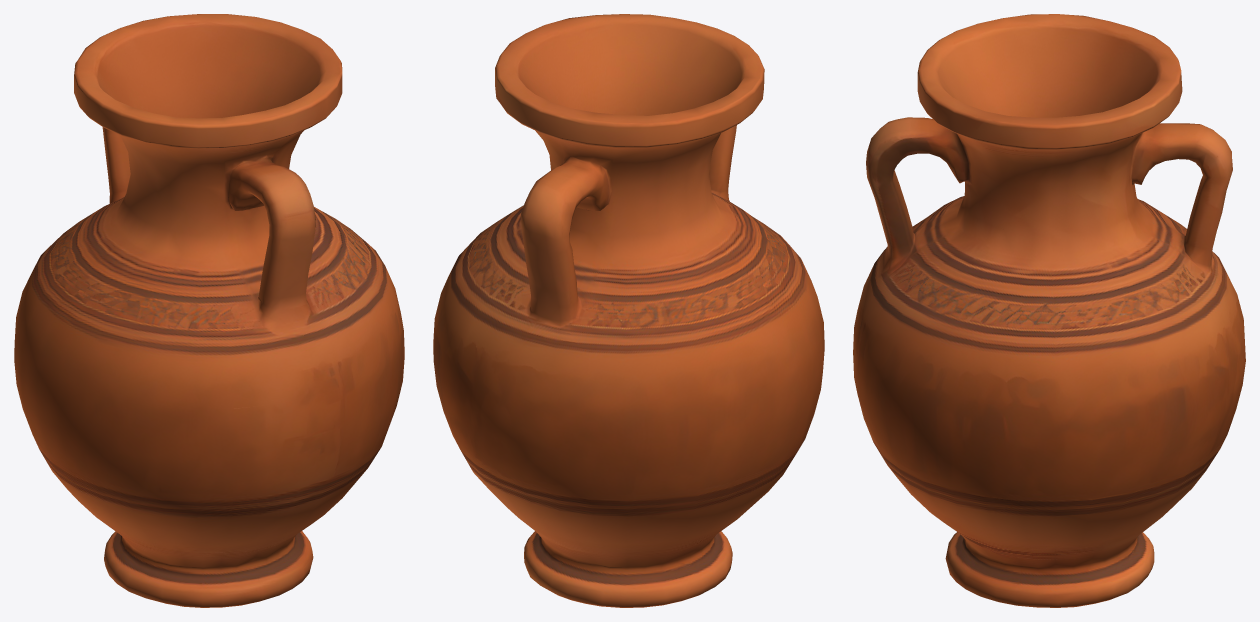
File: artifact_common-BYK30kIQ.glb
The picture shows the model from 3 angles, left to right: view 1: azimuth 30°, elevation 25°; view 2: azimuth 150°, elevation 25°; view 3: azimuth 270°, elevation 25°; orthographic projection.
Visible parts, largest first — view 1: tripo_node_1c61c884-df0a-4fac-8d25-e74a29a5f214; view 2: tripo_node_1c61c884-df0a-4fac-8d25-e74a29a5f214; view 3: tripo_node_1c61c884-df0a-4fac-8d25-e74a29a5f214.
Part boxes in pixels (x1,y1,x2,y2): tripo_node_1c61c884-df0a-4fac-8d25-e74a29a5f214: [14, 14, 404, 607]; tripo_node_1c61c884-df0a-4fac-8d25-e74a29a5f214: [433, 14, 824, 607]; tripo_node_1c61c884-df0a-4fac-8d25-e74a29a5f214: [853, 14, 1245, 607].
Bounding box in the file's own units: 0.709 × 0.998 × 0.7129.
1 material, 1 textured.
